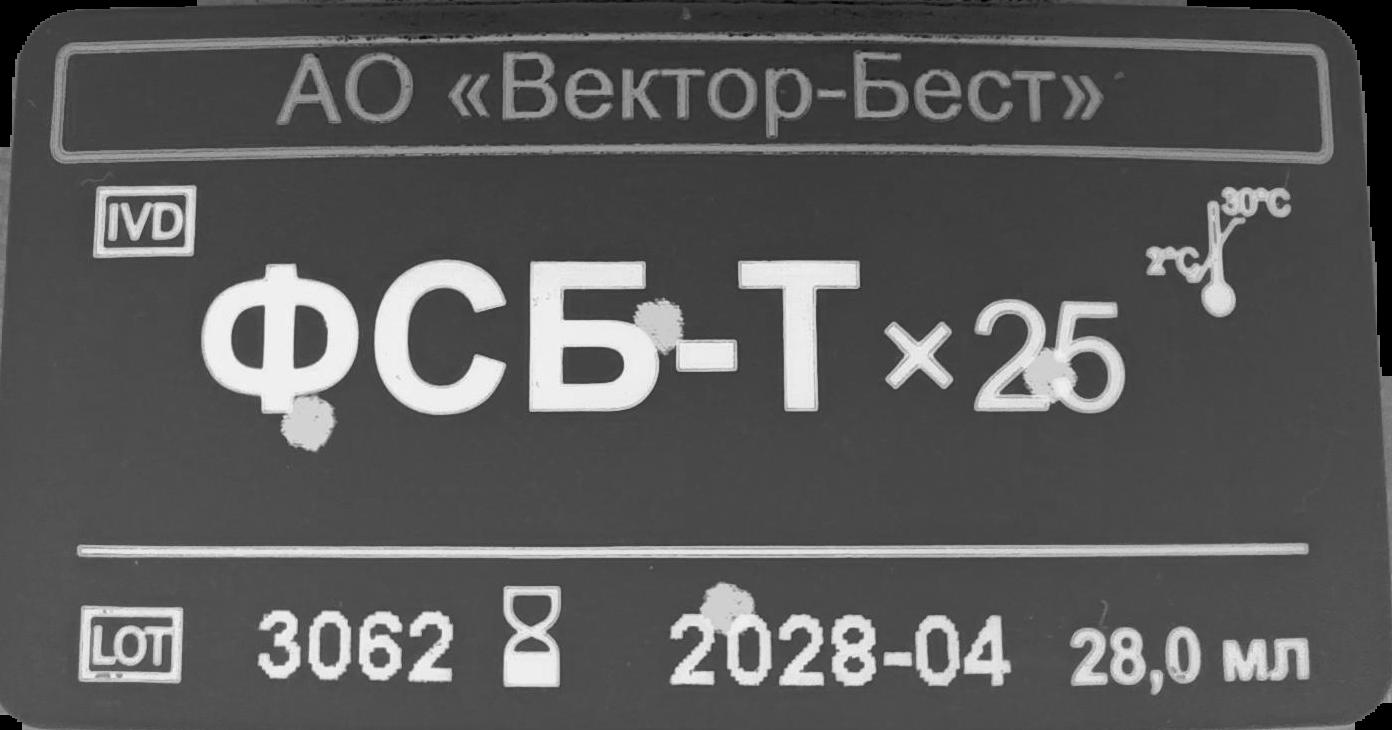something: (1147, 182, 1295, 325), (76, 609, 196, 690), (90, 179, 197, 258), (499, 579, 570, 690)
text: (199, 256, 1138, 438), (271, 40, 1113, 154), (669, 609, 1015, 697), (1067, 617, 1317, 705), (250, 605, 460, 695)
